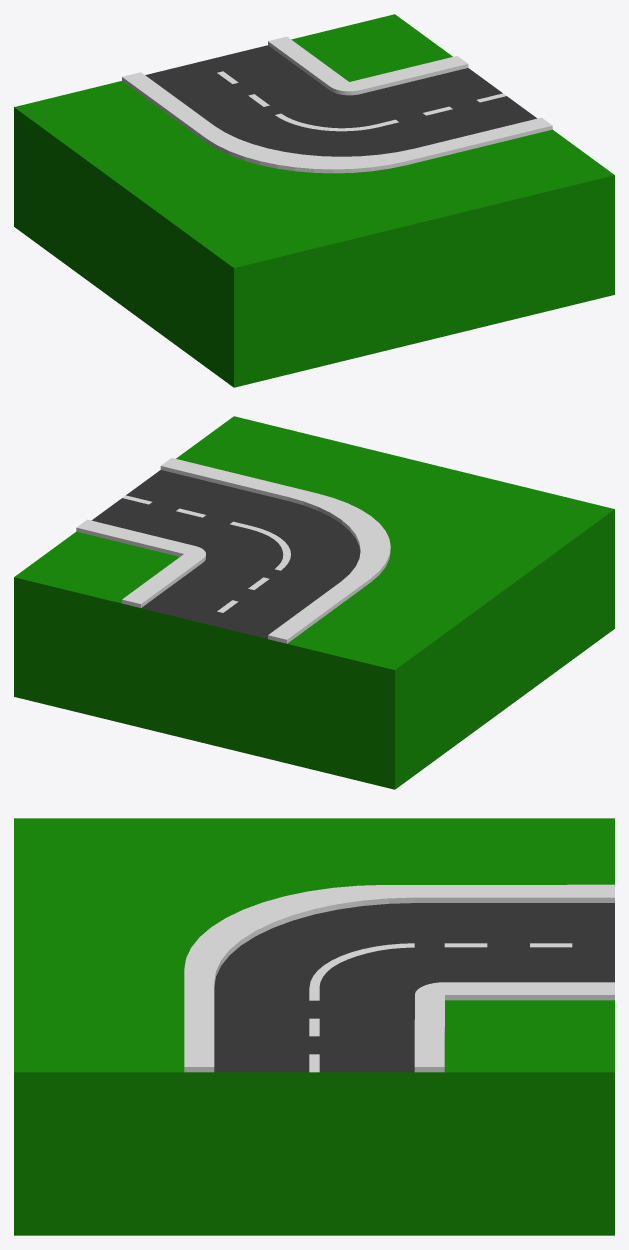
File: S_CurvedRoad.fbx
3 views of the same model, one above another, from view 1: azimuth 30°, elevation 25°; view 2: azimuth 150°, elevation 25°; view 3: azimuth 270°, elevation 25° (orthographic). The views are drawn at different scales.
Visible parts, largest first — view 1: Cube.002; view 2: Cube.002; view 3: Cube.002.
Part boxes in pixels (x1,y1,x2,y2): Cube.002: [14, 14, 614, 387]; Cube.002: [14, 416, 614, 789]; Cube.002: [14, 818, 614, 1235].
Bounding box in the file's own units: 200 × 62 × 200.
